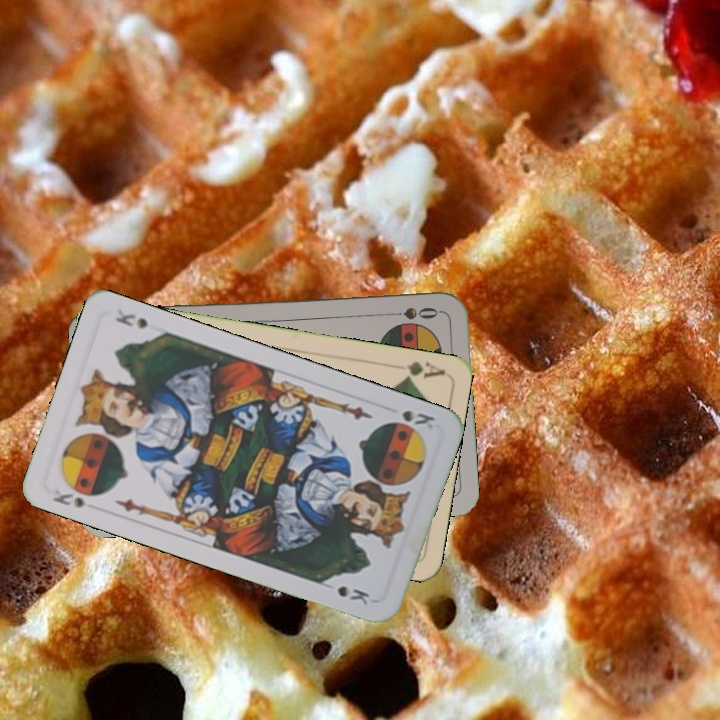GA: (400, 357, 447, 383)
SK: (398, 406, 438, 433), (48, 485, 87, 511)
SO: (382, 303, 442, 322)
